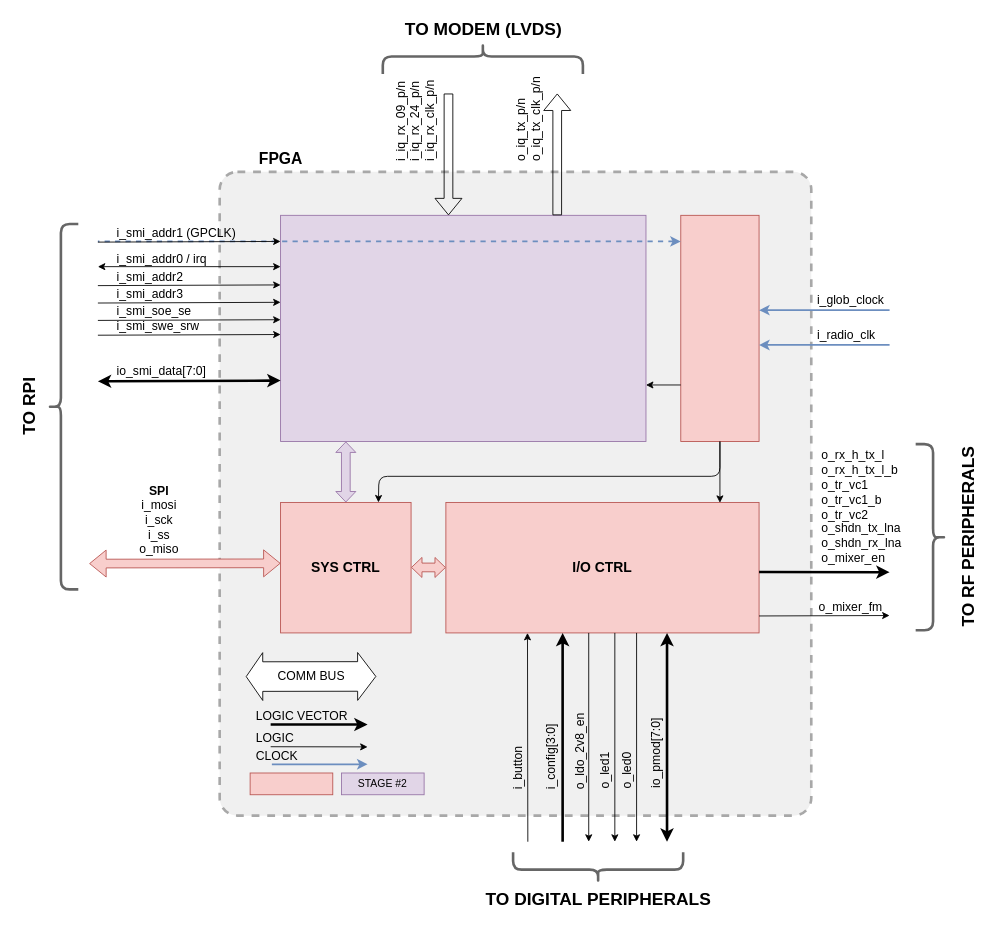
This 995x926 diagram has some shape labels left out. Each missing label, with the box of its shape:
CLOCK CTRL: (680, 214, 759, 442)
SMI CTRL: (280, 214, 646, 442)
STAGE #1: (249, 772, 333, 795)
